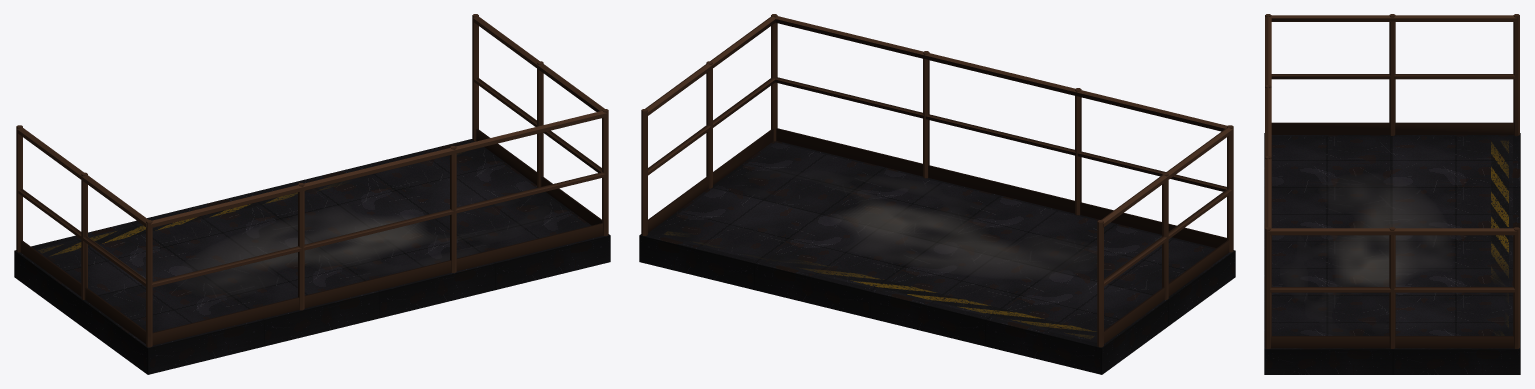
Rendered from stair_landing.glb.
3 views of the same model, side by side, from view 1: azimuth 30°, elevation 25°; view 2: azimuth 150°, elevation 25°; view 3: azimuth 270°, elevation 25° (orthographic). The views are drawn at different scales.
Parts seen in each view (by area): view 1: body, opt_rail_front, decals, opt_rail_left, opt_rail_right; view 2: body, opt_rail_front, decals, opt_rail_left, opt_rail_right; view 3: body, decals, opt_rail_right, opt_rail_left, opt_rail_front.
Boxes of the visible parts, x1=… form: body: x1=14, y1=14, x2=610, y2=374; opt_rail_front: x1=151, y1=111, x2=606, y2=345; decals: x1=39, y1=151, x2=474, y2=286; opt_rail_left: x1=16, y1=127, x2=148, y2=343; opt_rail_right: x1=472, y1=16, x2=604, y2=225; body: x1=639, y1=14, x2=1235, y2=374; opt_rail_front: x1=775, y1=16, x2=1227, y2=248; decals: x1=665, y1=201, x2=1096, y2=338; opt_rail_left: x1=1101, y1=127, x2=1233, y2=343; opt_rail_right: x1=645, y1=16, x2=775, y2=232; body: x1=1264, y1=14, x2=1520, y2=374; decals: x1=1333, y1=141, x2=1508, y2=335; opt_rail_right: x1=1268, y1=227, x2=1516, y2=348; opt_rail_left: x1=1270, y1=14, x2=1516, y2=135; opt_rail_front: x1=1265, y1=16, x2=1271, y2=227.
Size of what is drawn, in the model's own units: 4 by 1.25 by 2.
Materials: 5 (4 with a texture image).
